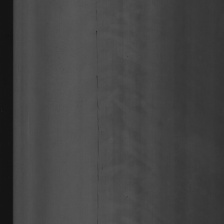inclusion: (90, 11, 102, 216)
